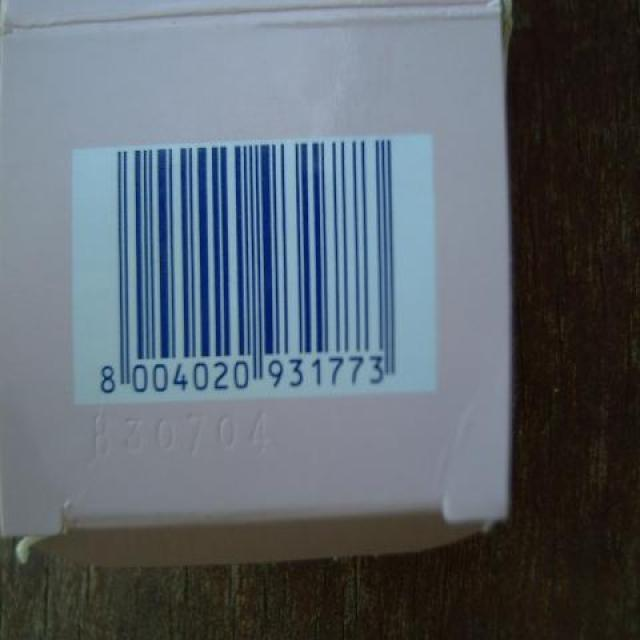Barcode: (72, 132, 436, 407)
